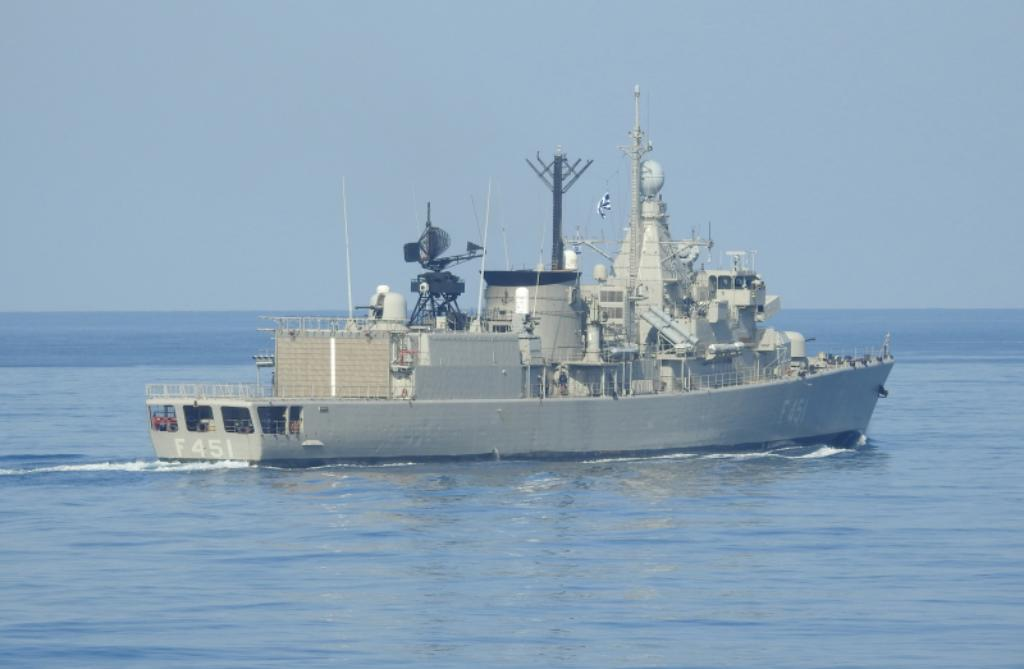Warship: (137, 76, 903, 466)
